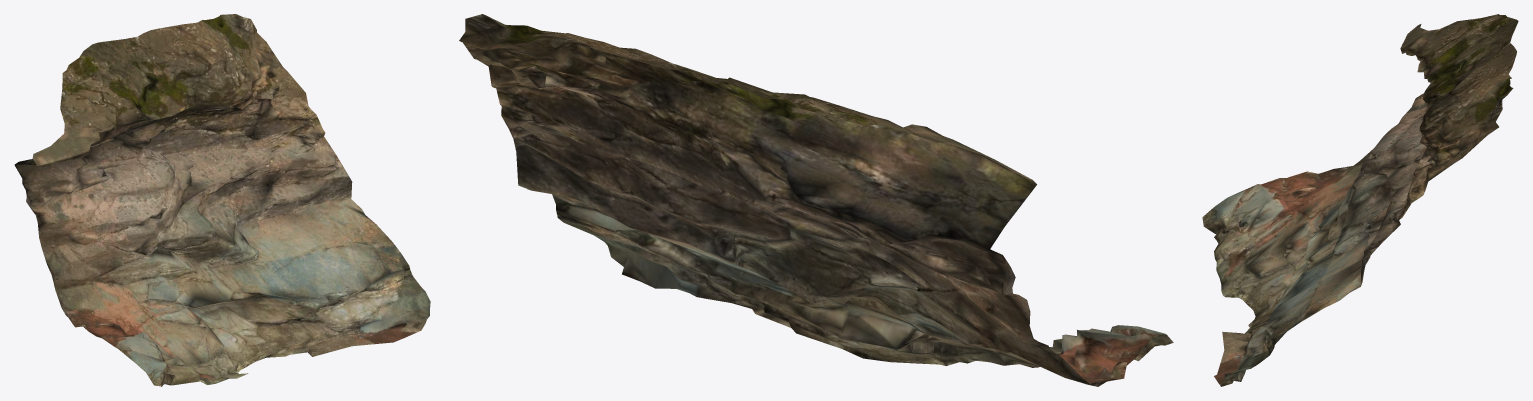
The model's file is rock_face_01-low.glb.
3 renders of one model, left to right at view 1: azimuth 30°, elevation 25°; view 2: azimuth 150°, elevation 25°; view 3: azimuth 270°, elevation 25°, orthographic. The views are drawn at different scales.
Visible parts, largest first — view 1: rock_face_01; view 2: rock_face_01; view 3: rock_face_01.
Boxes of the visible parts, box(x1,y1,x2,y2) form: rock_face_01: box(14, 14, 430, 386); rock_face_01: box(459, 14, 1173, 386); rock_face_01: box(1202, 14, 1518, 386).
Bounding box in the file's own units: 4.94 × 3.56 × 3.82.
1 material, 1 textured.
